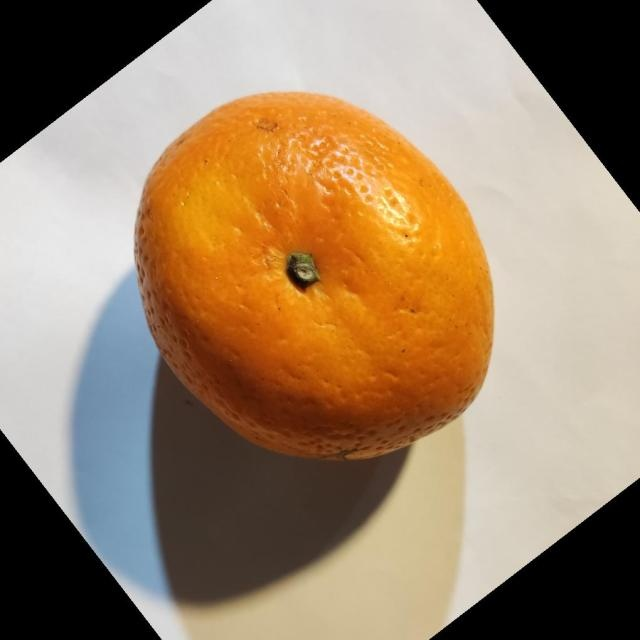agrume: (132, 89, 496, 462)
